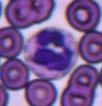N: (27, 27, 78, 79)
